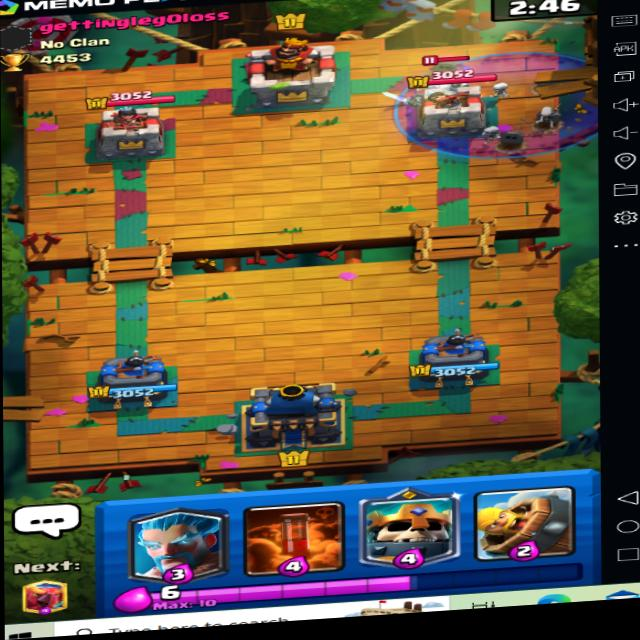royal-ghost: (401, 62, 461, 119)
